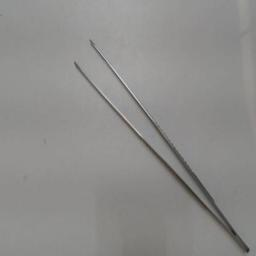DeBakey Dissector: (66, 34, 252, 254)
